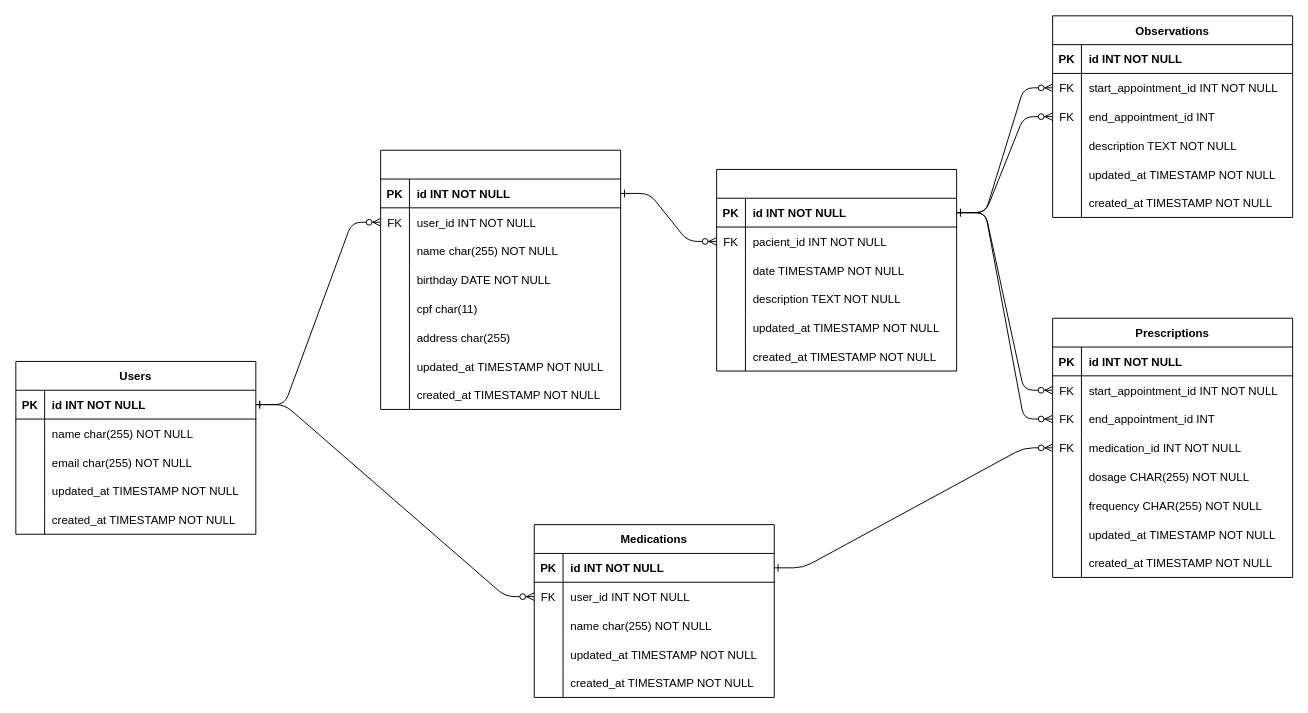
Image size: 1308x713. Some labels were removed from this diagram. Here are the shapes that lost their labels. From the top down, the box of each, then its label:
(380, 149, 621, 409): Pacients
(716, 168, 957, 371): Appointments
